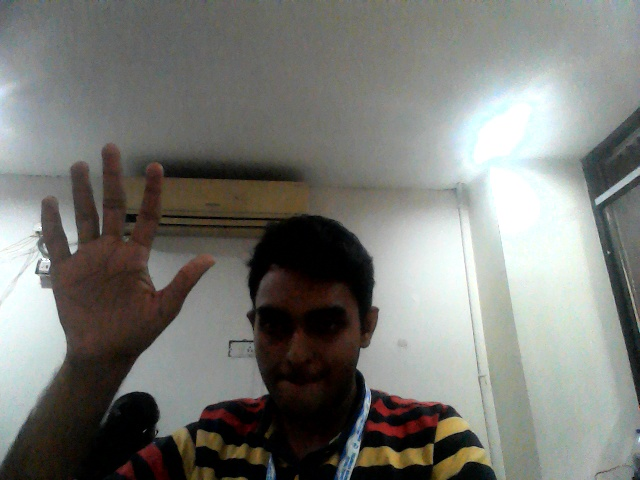palm: (36, 135, 221, 362)
